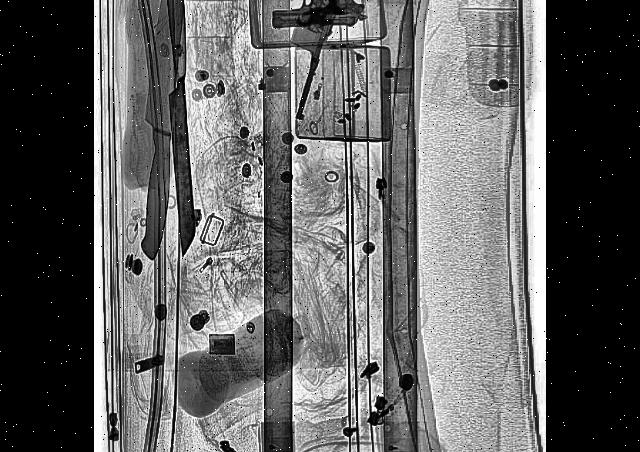Gun: (257, 0, 343, 125), (268, 0, 372, 41)
Knife: (138, 0, 189, 260), (157, 0, 200, 255)
